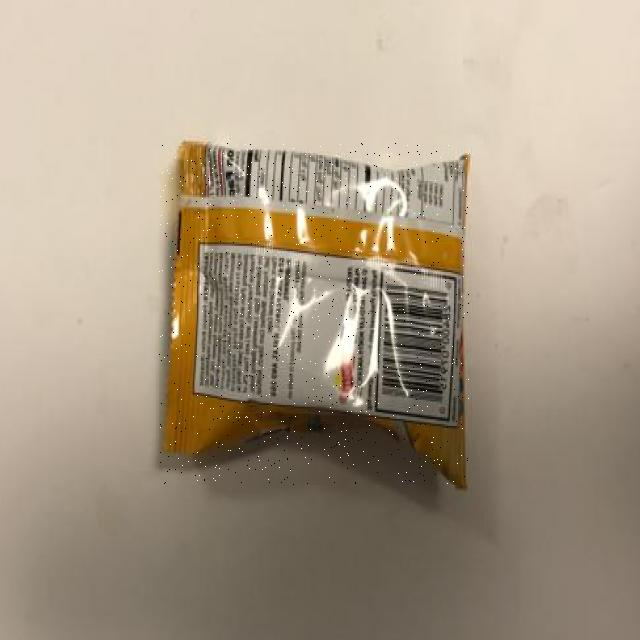wrapper: (160, 143, 469, 484)
